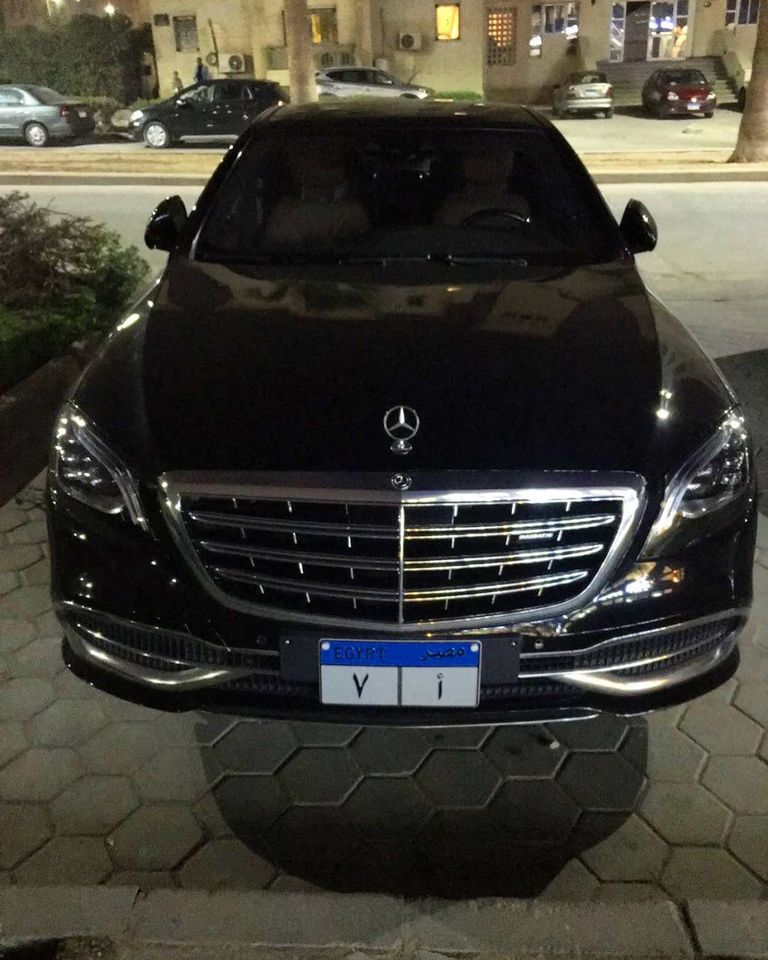carpl: (321, 661, 478, 703)
